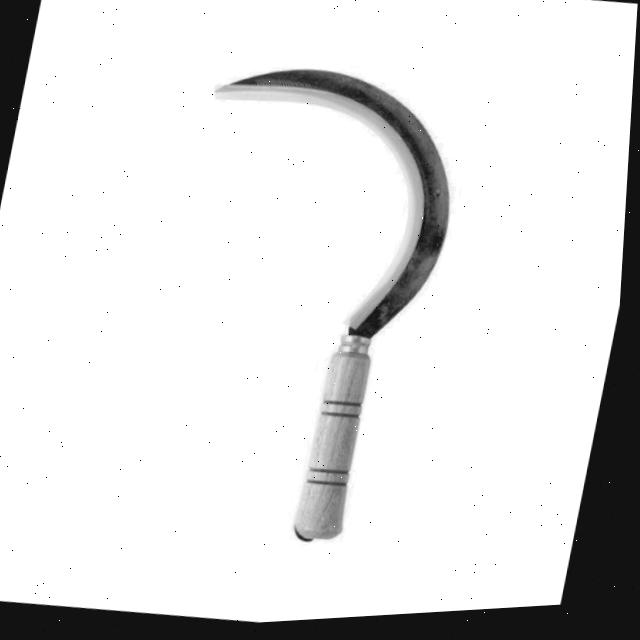celurit: (117, 34, 509, 580)
